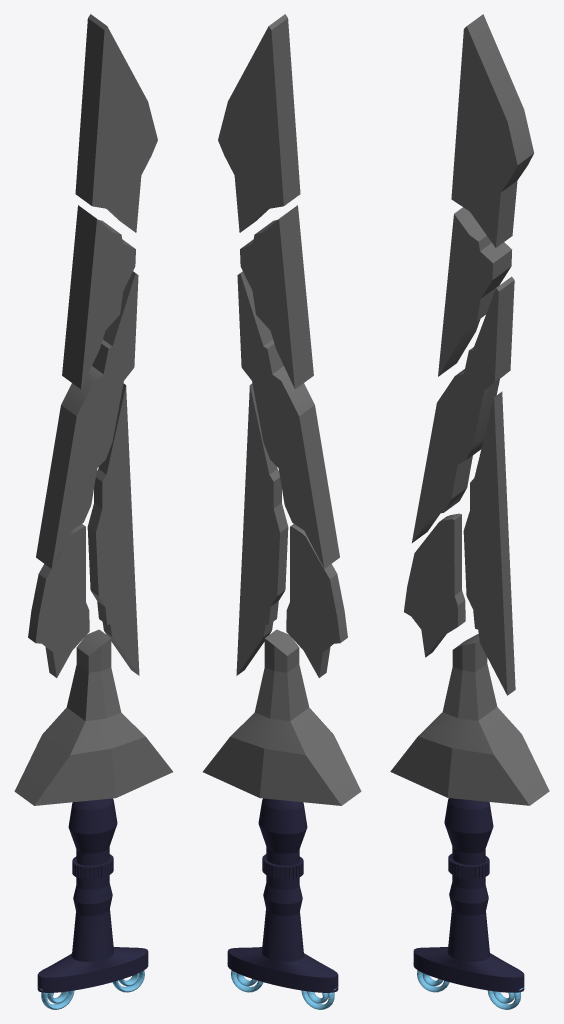
Rendered from sword3.fbx.
The picture shows the model from 3 angles, left to right: view 1: azimuth 30°, elevation 25°; view 2: azimuth 150°, elevation 25°; view 3: azimuth 330°, elevation 25°; orthographic projection.
Parts seen in each view (by area): view 1: Cylinder; view 2: Cylinder; view 3: Cylinder.
Boxes of the visible parts, x1,y1,x2,y2 form: Cylinder: [14, 14, 172, 1009]; Cylinder: [203, 14, 361, 1009]; Cylinder: [390, 14, 549, 1009].
Size of the model in its own units: 181 by 1214 by 100.
